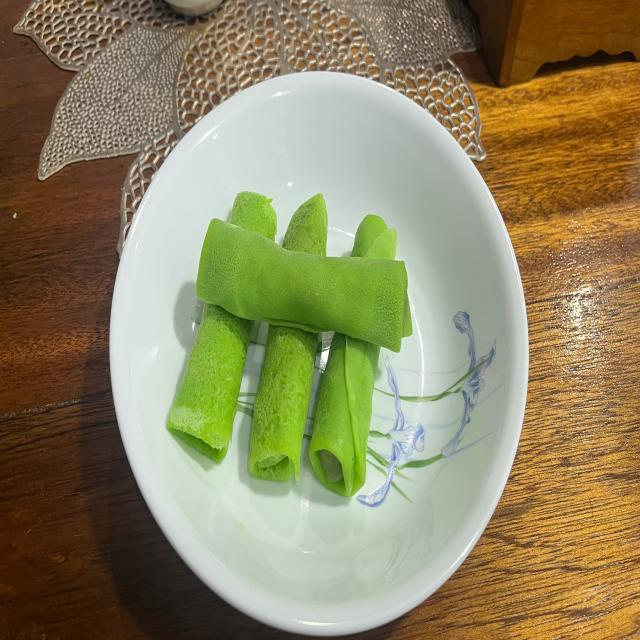Kuih-Ketayap: (196, 218, 411, 351), (168, 302, 252, 462), (310, 333, 380, 498), (249, 324, 318, 482), (282, 193, 328, 256), (230, 191, 276, 240), (351, 216, 398, 260)
